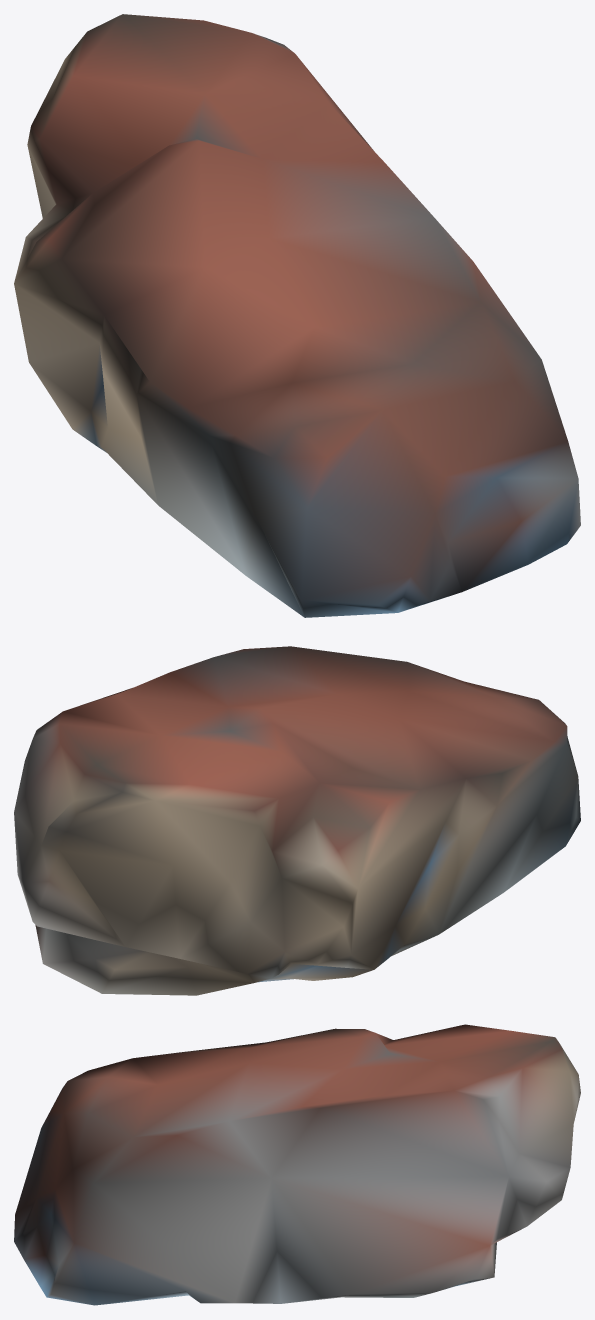
The model's file is rock_07_far.glb.
3 views of the same model, one above another, from view 1: azimuth 30°, elevation 25°; view 2: azimuth 150°, elevation 25°; view 3: azimuth 270°, elevation 25° (orthographic). The views are drawn at different scales.
Parts seen in each view (by area): view 1: rock_07; view 2: rock_07; view 3: rock_07.
Part boxes in pixels (x1=…): rock_07: x1=14, y1=14, x2=580, y2=617; rock_07: x1=14, y1=646, x2=580, y2=995; rock_07: x1=14, y1=1024, x2=580, y2=1305.
Size of the model in its own units: 0.1661 by 0.1425 by 0.3195.
